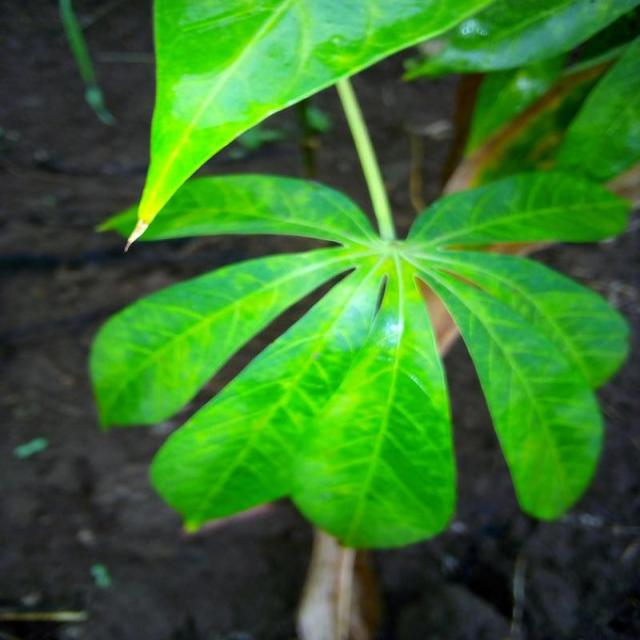cassava leaf: (88, 1, 638, 550), (118, 0, 500, 251)
